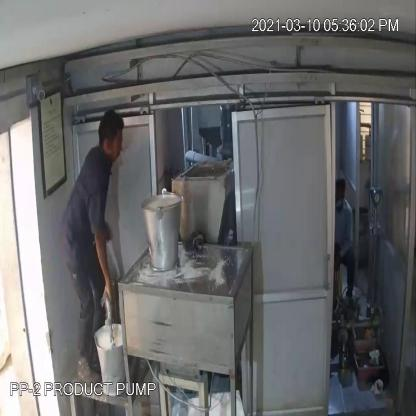no_glove: (90, 219, 121, 313)
